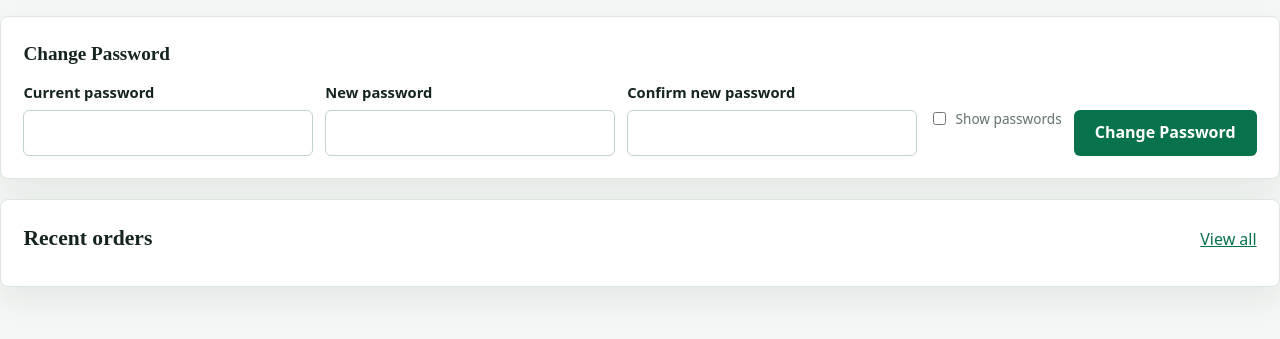
Test case: rejects missing and mismatched confirmation before submitting
Type "CurrentPass123" into the password field labelled "Current password" at point(168, 132), box [23, 110, 313, 156]
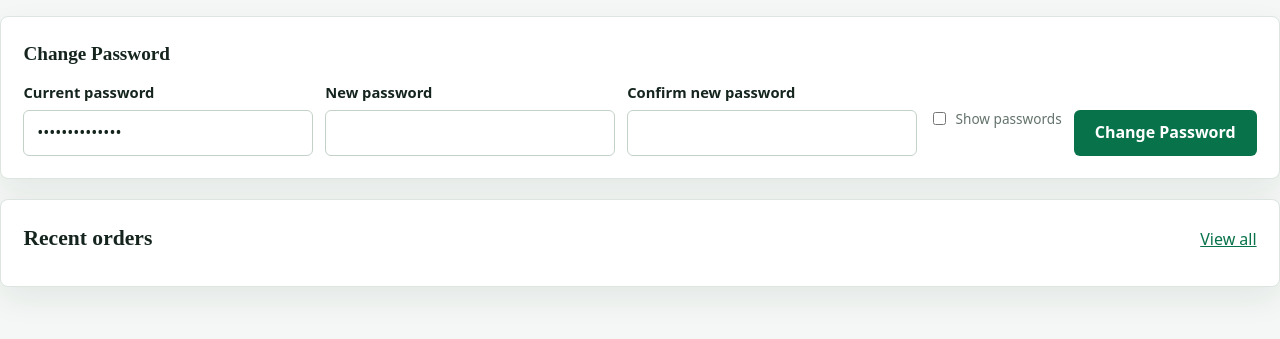
Type "NewPass4567" into the password field labelled "New password" at point(470, 132), box [325, 110, 615, 156]
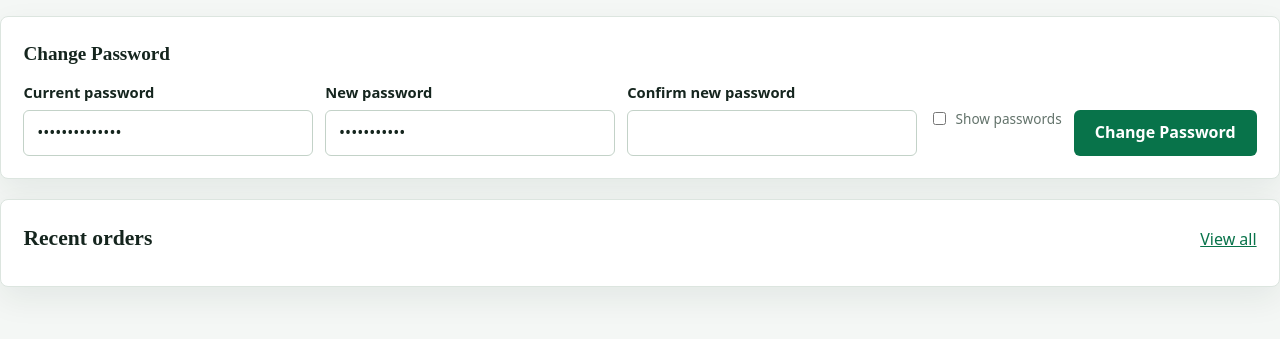
Type "DifferentPass456" into the password field labelled "Confirm new password" at point(772, 132), box [627, 110, 917, 156]
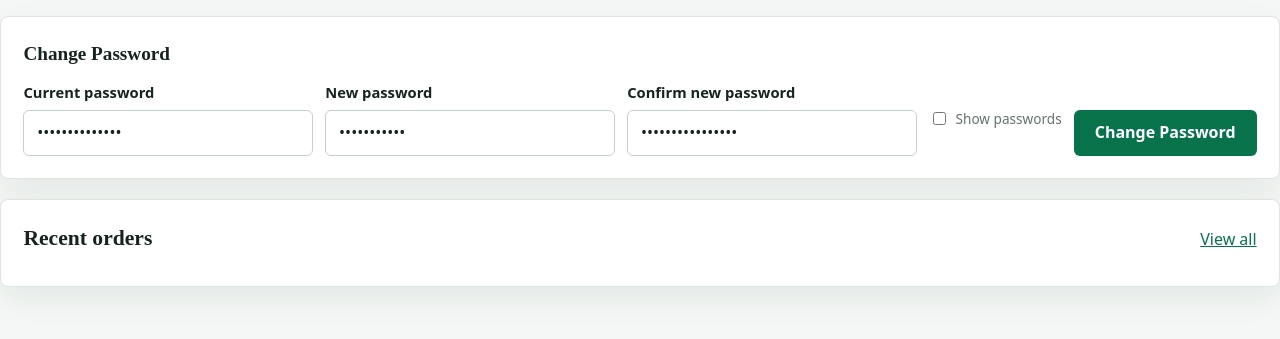
Click the button "Change Password" at point(1165, 133), box [1074, 110, 1257, 156]
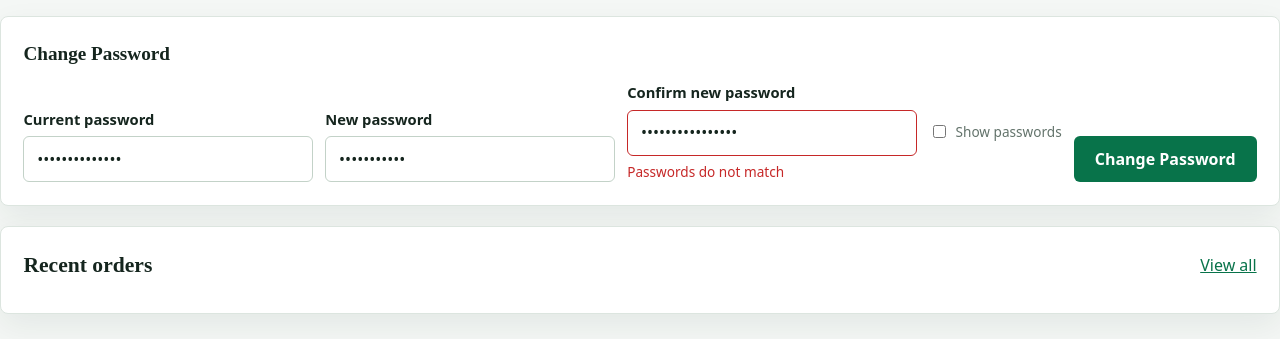
Now the message reads "Passwords do not match", box [627, 162, 784, 181]
